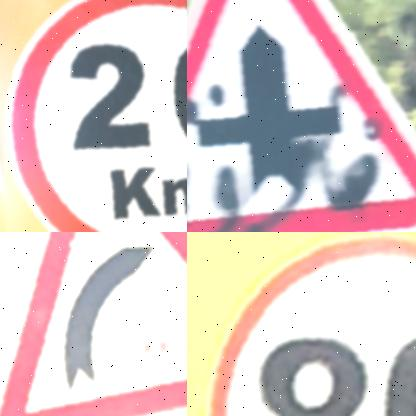Cross Roads: (187, 0, 416, 232)
Right bend: (0, 232, 187, 416)
Speed Limit -20 kmph-: (0, 0, 187, 232)
Speed Limit -80 kmph-: (187, 232, 416, 416)
